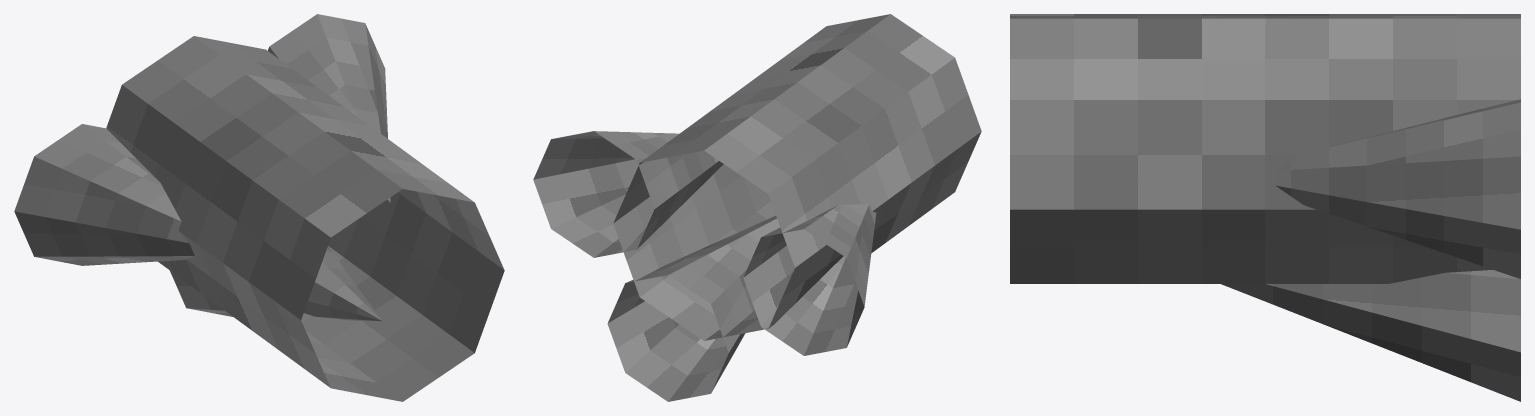
The model's file is tree-moon-bottom.glb.
The picture shows the model from 3 angles, left to right: view 1: azimuth 30°, elevation 25°; view 2: azimuth 150°, elevation 25°; view 3: azimuth 270°, elevation 25°; orthographic projection. The views are drawn at different scales.
Visible parts, largest first — view 1: tree-moon-bottom; view 2: tree-moon-bottom; view 3: tree-moon-bottom.
Part boxes in pixels (left/top/right/bottom): tree-moon-bottom: left=14, top=14, right=504, bottom=401; tree-moon-bottom: left=533, top=14, right=981, bottom=401; tree-moon-bottom: left=1010, top=14, right=1520, bottom=401.
Bounding box in the file's own units: 1.02 × 0.7687 × 1.
Materials: 1 (1 with a texture image).
